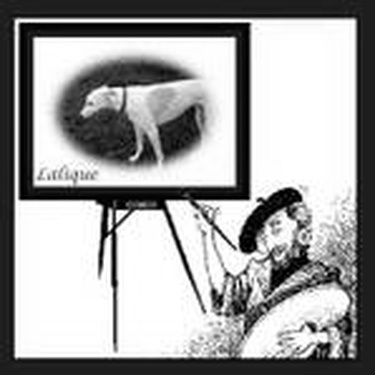dog: (72, 73, 218, 173)
